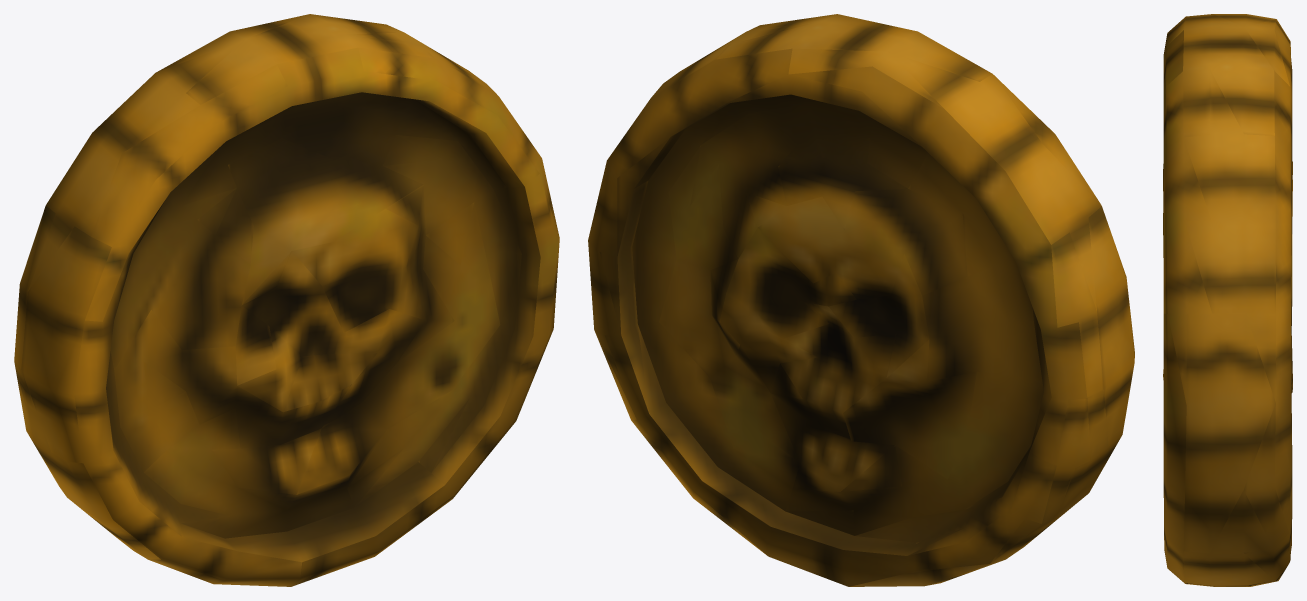
File: mk_koban.glb
3 views of the same model, side by side, from view 1: azimuth 30°, elevation 25°; view 2: azimuth 150°, elevation 25°; view 3: azimuth 270°, elevation 25° (orthographic). The views are drawn at different scales.
Parts seen in each view (by area): view 1: mesh; view 2: mesh; view 3: mesh.
Boxes of the visible parts, x1,y1,x2,y2 form: mesh: (14, 14, 559, 586); mesh: (588, 14, 1134, 586); mesh: (1163, 14, 1292, 586).
Bounding box in the file's own units: 0.1078 × 0.108 × 0.0244.
1 material, 1 textured.
